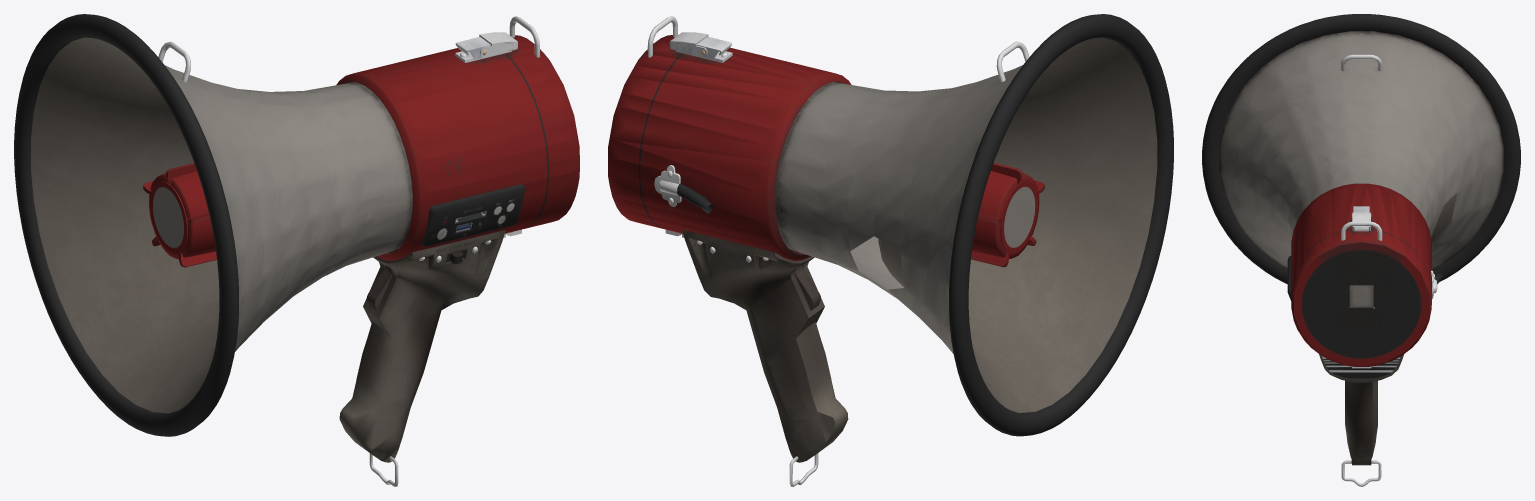
Rendered from megaphone1.glb.
3 renders of one model, left to right at view 1: azimuth 30°, elevation 25°; view 2: azimuth 150°, elevation 25°; view 3: azimuth 270°, elevation 25°, orthographic. The views are drawn at different scales.
Parts seen in each view (by area): view 1: Megaphone_01_0; view 2: Megaphone_01_0; view 3: Megaphone_01_0.
Boxes of the visible parts, bbox=[...] form: Megaphone_01_0: bbox=[14, 14, 579, 486]; Megaphone_01_0: bbox=[608, 14, 1173, 486]; Megaphone_01_0: bbox=[1202, 14, 1520, 486].
Bounding box in the file's own units: 2.07 × 2.45 × 1.86.
Materials: 1 (1 with a texture image).
